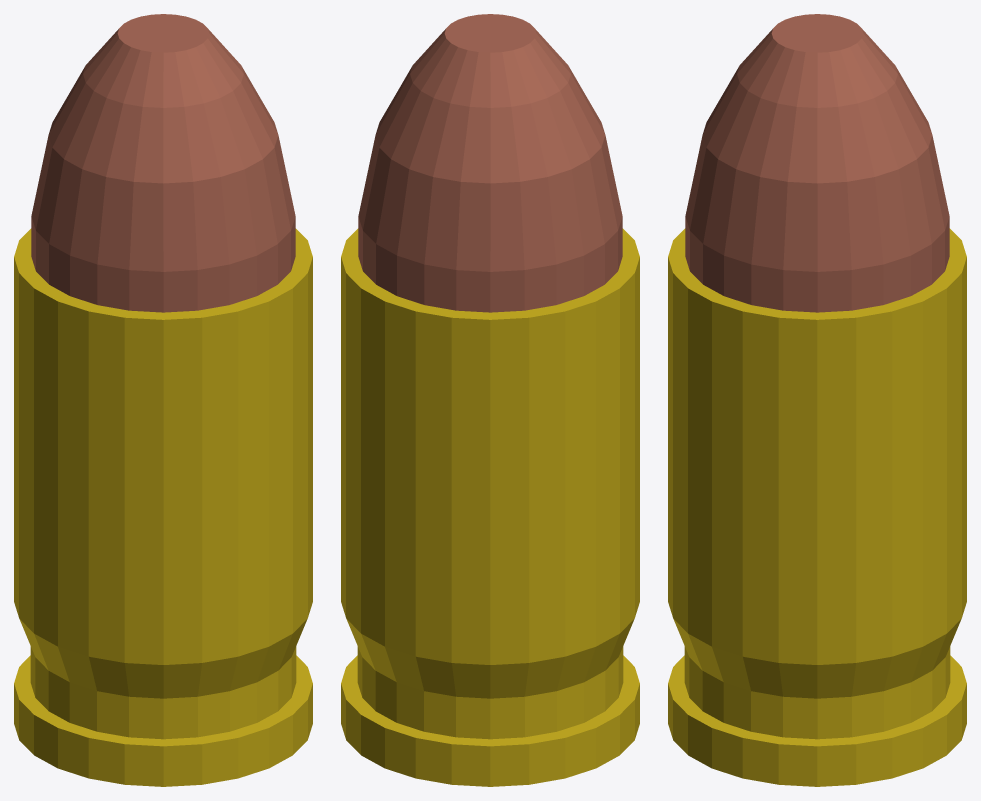
File: ammo_uzi.glb
3 renders of one model, left to right at view 1: azimuth 30°, elevation 25°; view 2: azimuth 150°, elevation 25°; view 3: azimuth 270°, elevation 25°, orthographic.
Parts seen in each view (by area): view 1: Mesh1 Group2 Group1 Model, Mesh2 Group3 Group1 Model; view 2: Mesh1 Group2 Group1 Model, Mesh2 Group3 Group1 Model; view 3: Mesh1 Group2 Group1 Model, Mesh2 Group3 Group1 Model.
Boxes of the visible parts, x1,y1,x2,y2 form: Mesh1 Group2 Group1 Model: [14, 228, 312, 786]; Mesh2 Group3 Group1 Model: [31, 14, 295, 312]; Mesh1 Group2 Group1 Model: [341, 228, 639, 786]; Mesh2 Group3 Group1 Model: [358, 14, 622, 312]; Mesh1 Group2 Group1 Model: [668, 228, 966, 786]; Mesh2 Group3 Group1 Model: [685, 14, 949, 312].
Size of the model in its own units: 0.004 by 0.0102 by 0.004.
